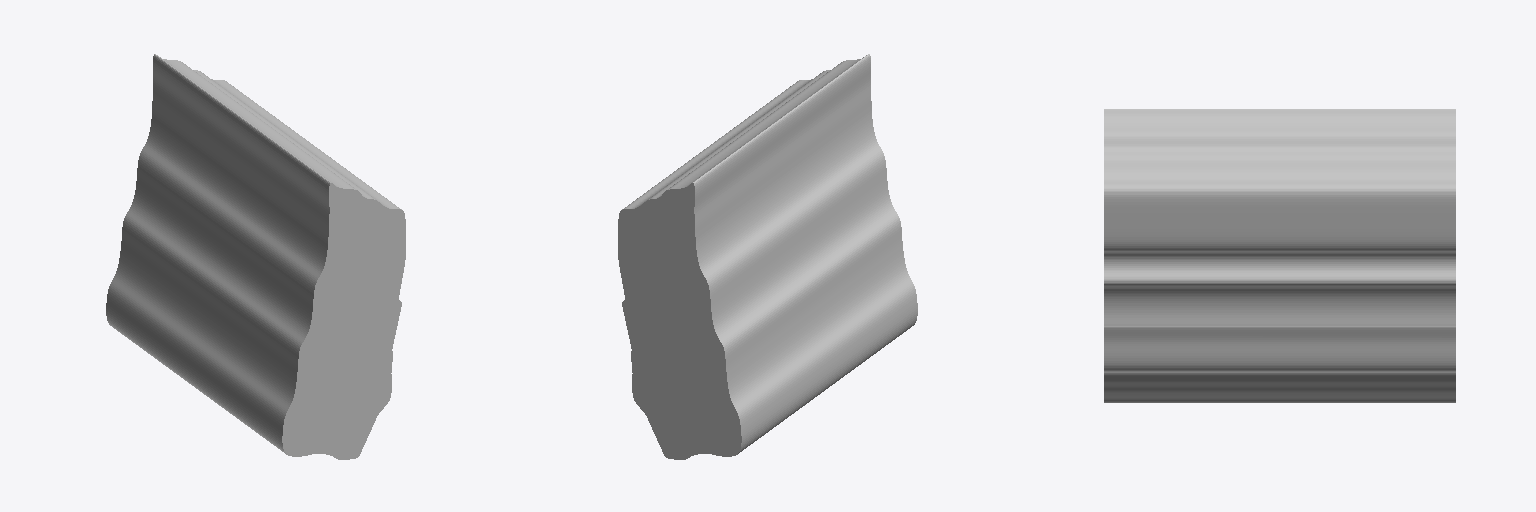
3 views of the same model, side by side, from view 1: azimuth 30°, elevation 25°; view 2: azimuth 150°, elevation 25°; view 3: azimuth 270°, elevation 25° (orthographic).
Parts seen in each view (by area): view 1: 平面; view 2: 平面; view 3: 平面.
Boxes of the visible parts, x1=… form: 平面: x1=106, y1=54, x2=405, y2=459; 平面: x1=618, y1=54, x2=917, y2=459; 平面: x1=1104, y1=109, x2=1455, y2=402.
Bounding box in the file's own units: 0.0809 × 0.1765 × 0.2.